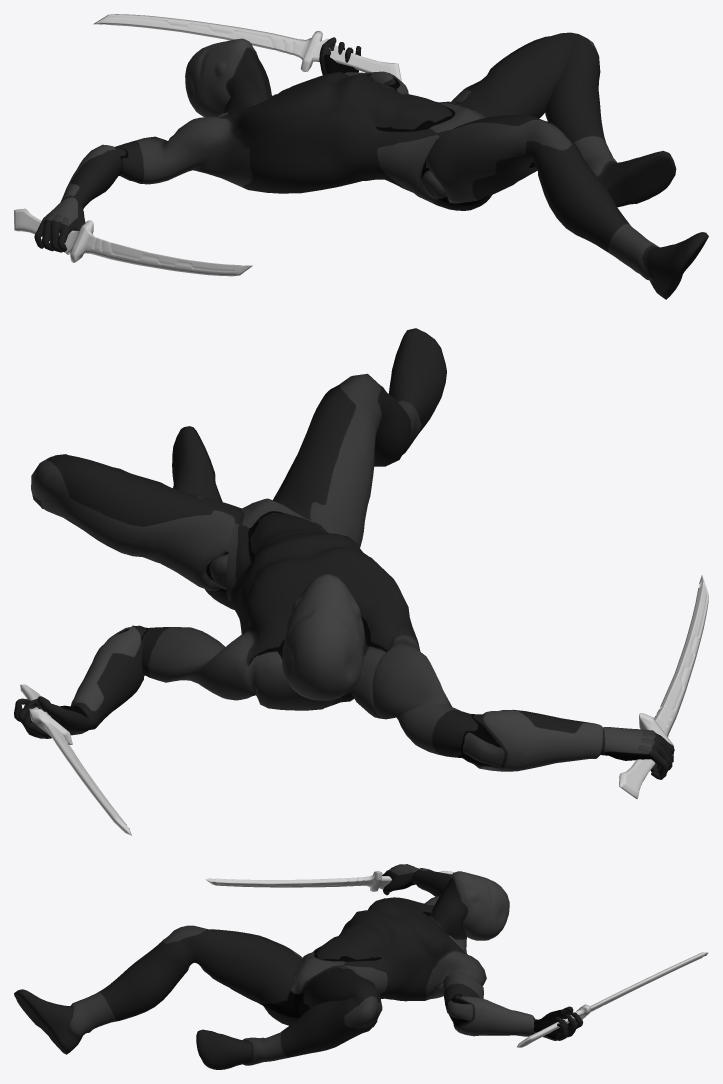
3 renders of one model, top to bottom at view 1: azimuth 30°, elevation 25°; view 2: azimuth 150°, elevation 25°; view 3: azimuth 270°, elevation 25°, orthographic. The views are drawn at different scales.
Parts seen in each view (by area): view 1: Cyborg_Ninja_Killer, Sword_l, Sword_l001; view 2: Cyborg_Ninja_Killer, Sword_l001, Sword_l; view 3: Cyborg_Ninja_Killer, Sword_l001, Sword_l.
Boxes of the visible parts, x1=… form: Cyborg_Ninja_Killer: x1=34, y1=32, x2=708, y2=299; Sword_l: x1=93, y1=14, x2=401, y2=81; Sword_l001: x1=14, y1=208, x2=252, y2=276; Cyborg_Ninja_Killer: x1=14, y1=328, x2=674, y2=779; Sword_l001: x1=619, y1=575, x2=708, y2=798; Sword_l: x1=20, y1=684, x2=131, y2=835; Cyborg_Ninja_Killer: x1=14, y1=864, x2=583, y2=1069; Sword_l001: x1=205, y1=870, x2=453, y2=891; Sword_l: x1=516, y1=952, x2=708, y2=1047.
Size of the model in its own units: 170 by 40.69 by 233.
